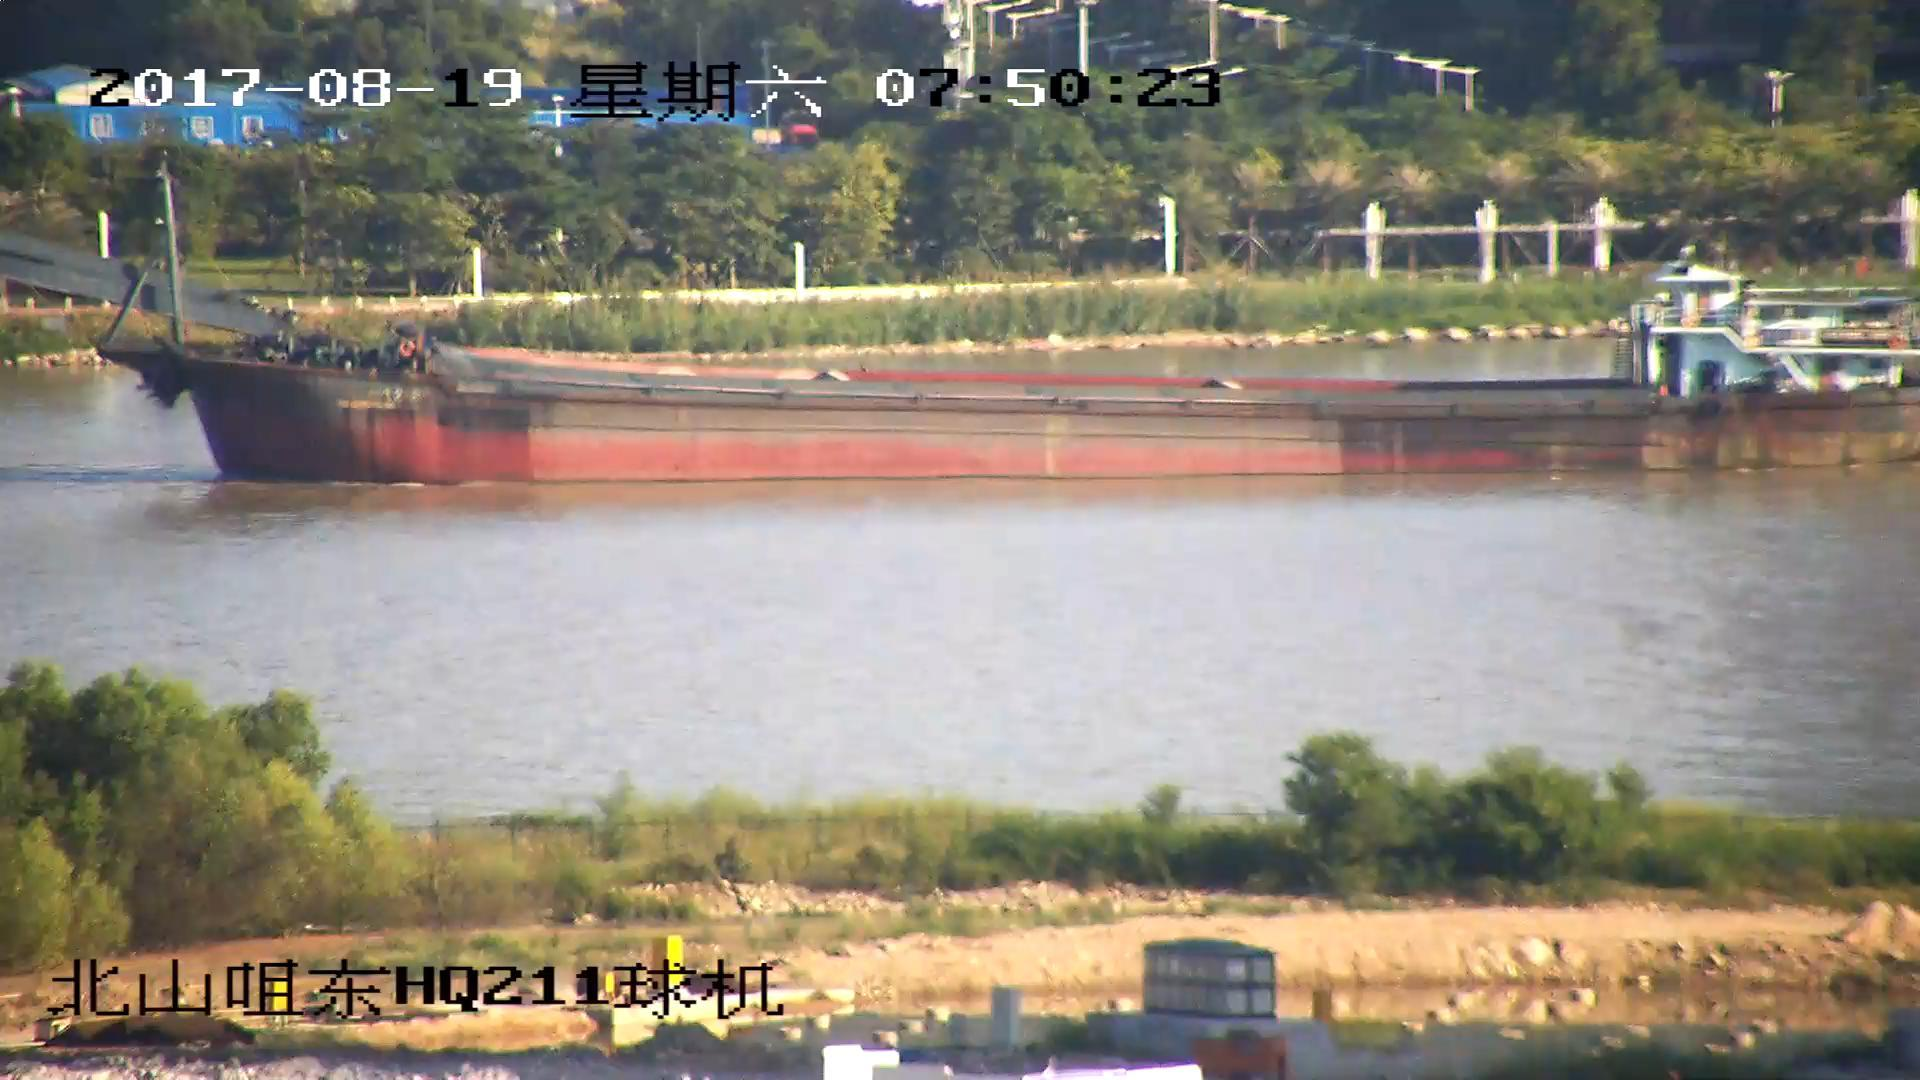Ship: (3, 179, 1920, 487)
